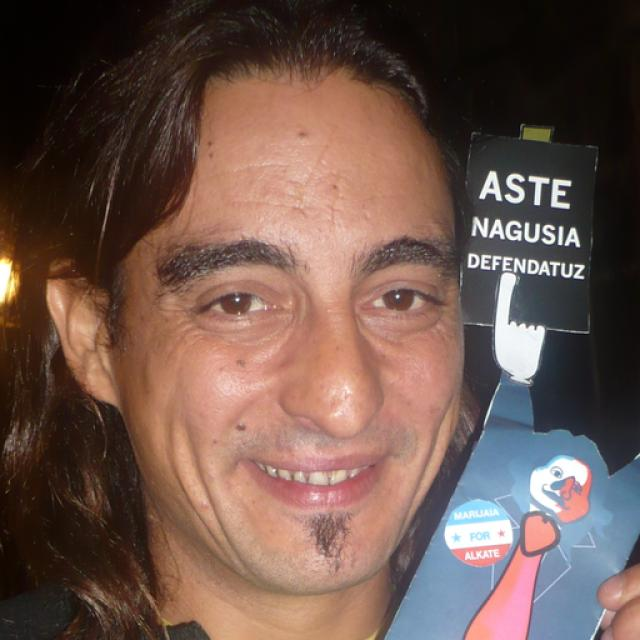Acne: (229, 413, 250, 435), (292, 128, 311, 143), (232, 359, 249, 369)
